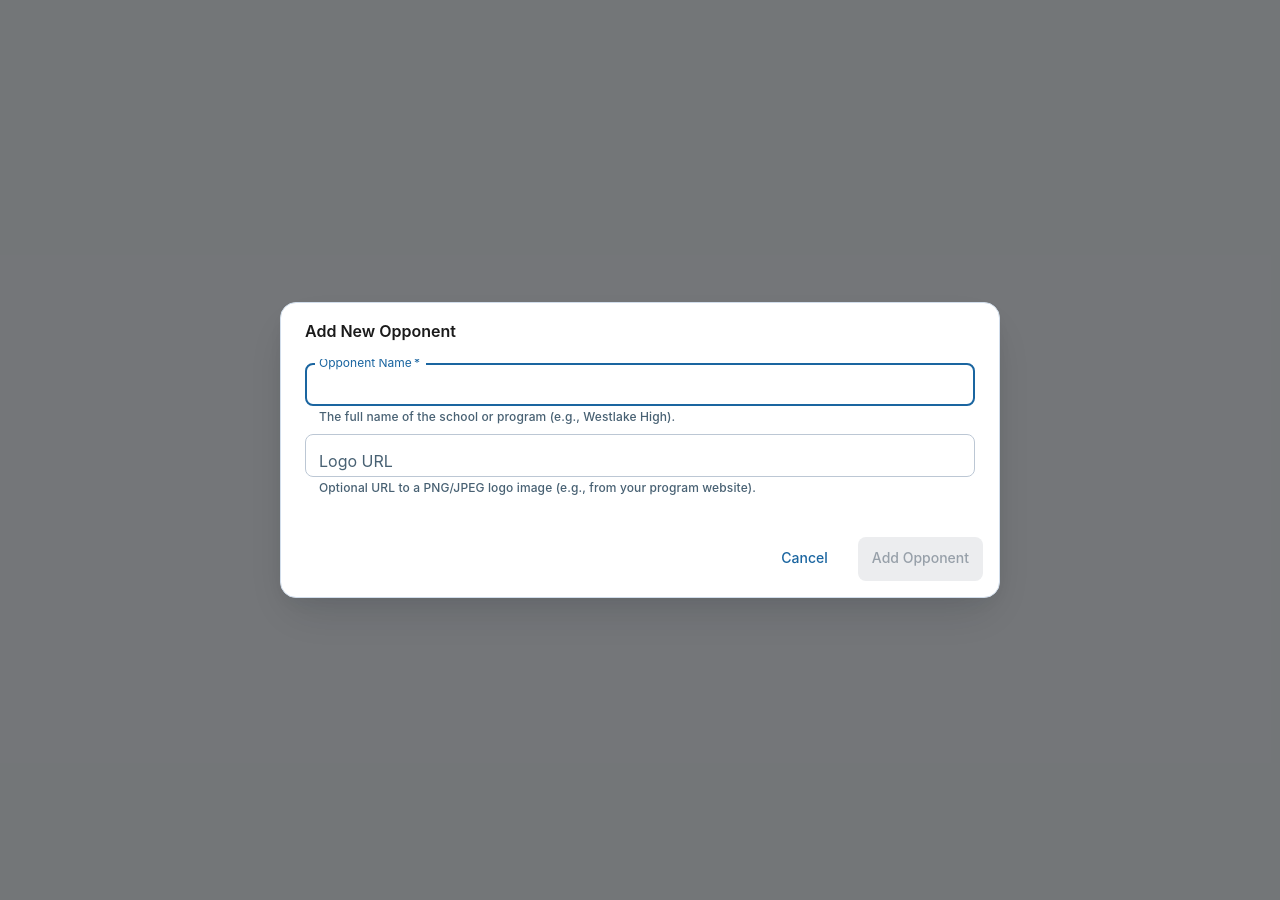
Test: AddOpponentDialog › disables buttons while submitting
Type "Nets" into the field labelled "Opponent Name" at (640, 385), box [305,363,975,406]
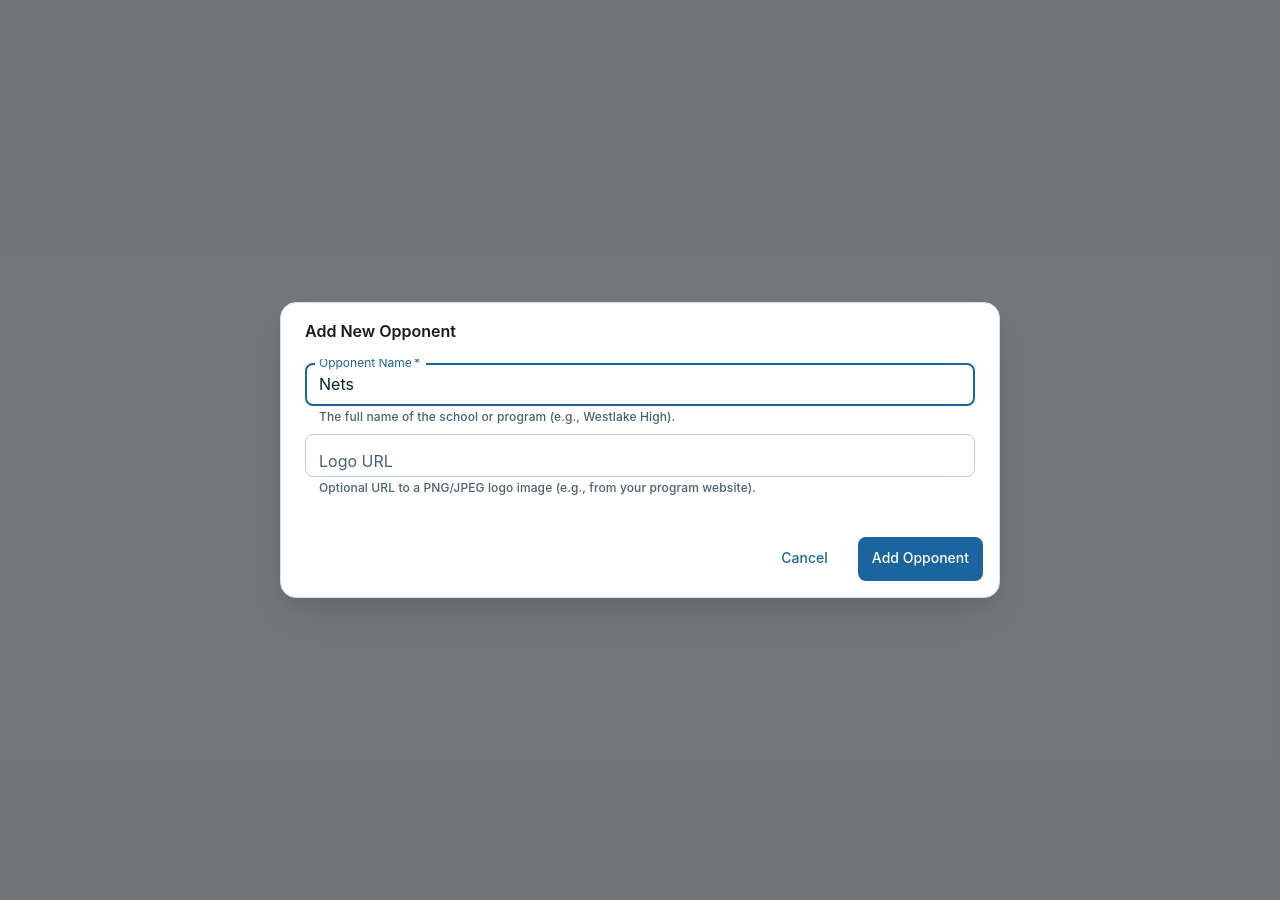
Click the button "Add Opponent" at (920, 559), box [858,537,983,581]
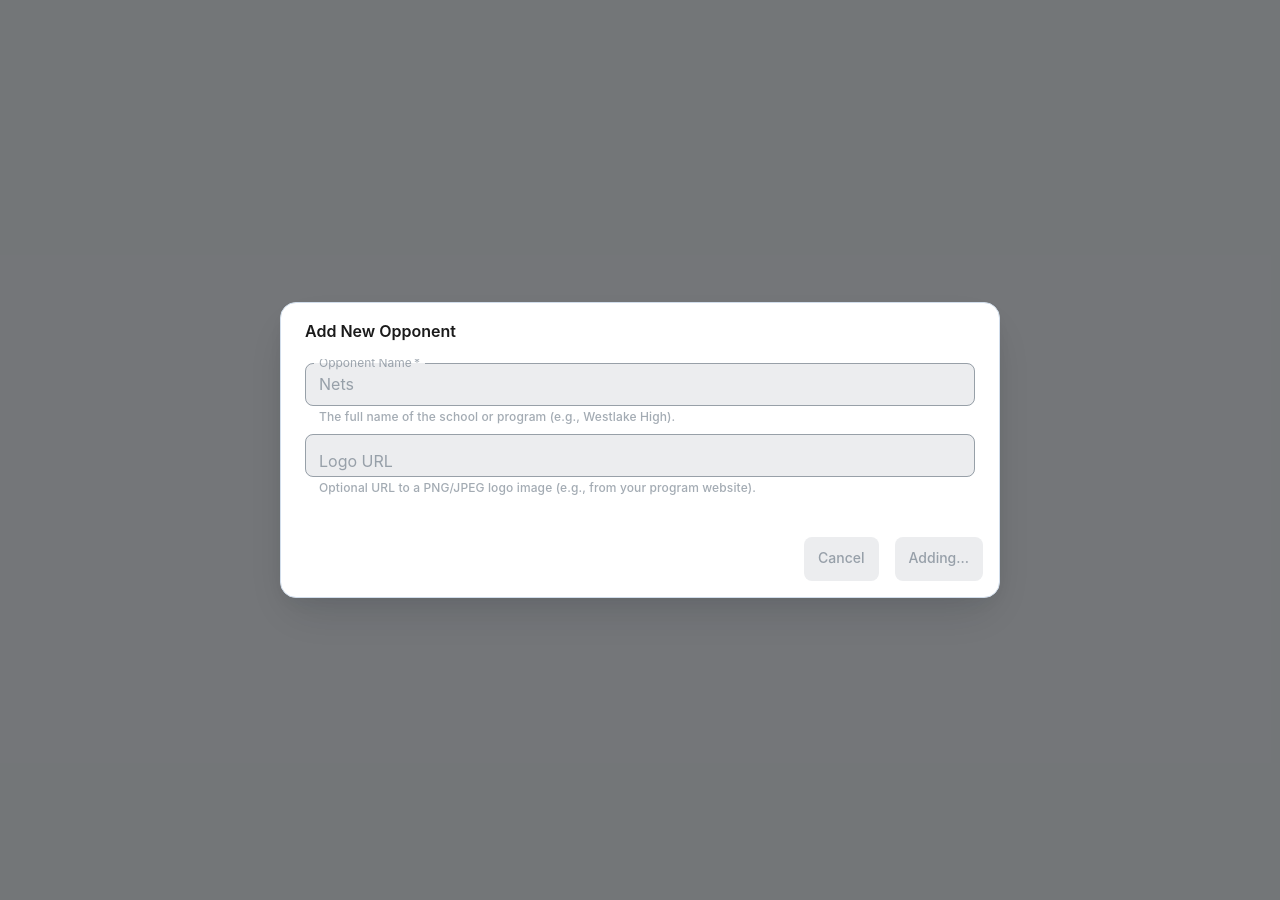
Check: the button "Adding..." is disabled, box [894,537,983,581]
Check: the button "Cancel" is disabled, box [804,537,878,581]
